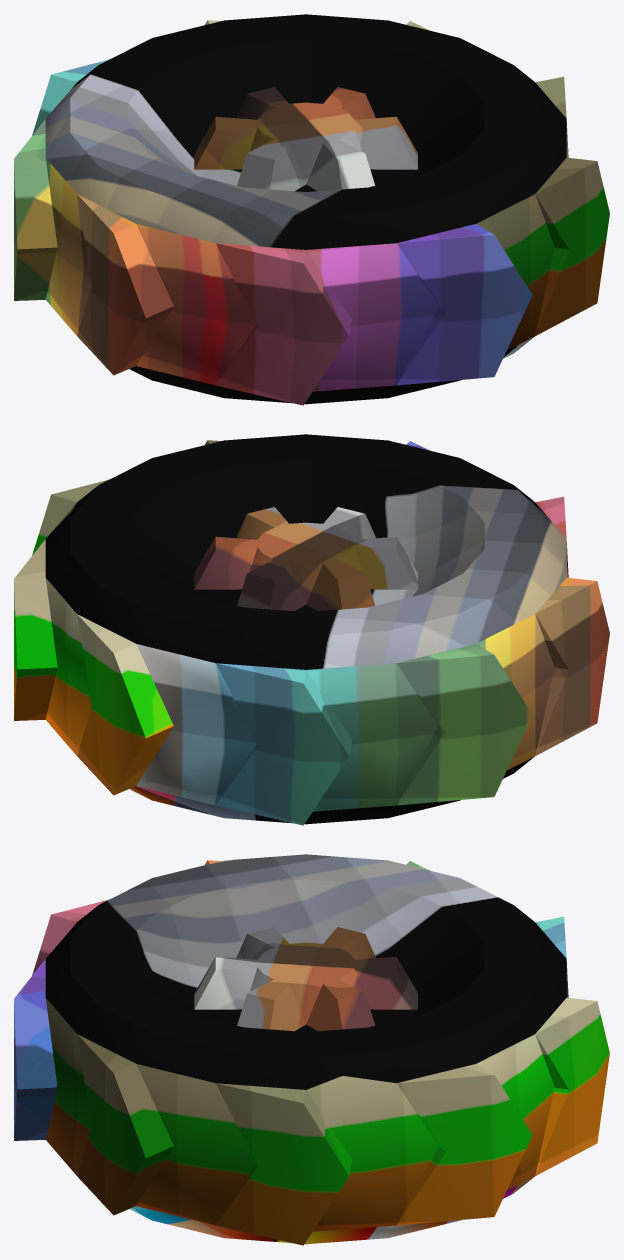
Rendered from Wheel.FBX.
3 views of the same model, one above another, from view 1: azimuth 30°, elevation 25°; view 2: azimuth 150°, elevation 25°; view 3: azimuth 270°, elevation 25° (orthographic).
Parts seen in each view (by area): view 1: Wheel; view 2: Wheel; view 3: Wheel.
Part boxes in pixels (x1,y1,x2,y2): Wheel: [14, 14, 609, 405]; Wheel: [14, 434, 609, 825]; Wheel: [14, 854, 609, 1245].
Bounding box in the file's own units: 110 × 37.87 × 109.
1 material, 1 textured.
